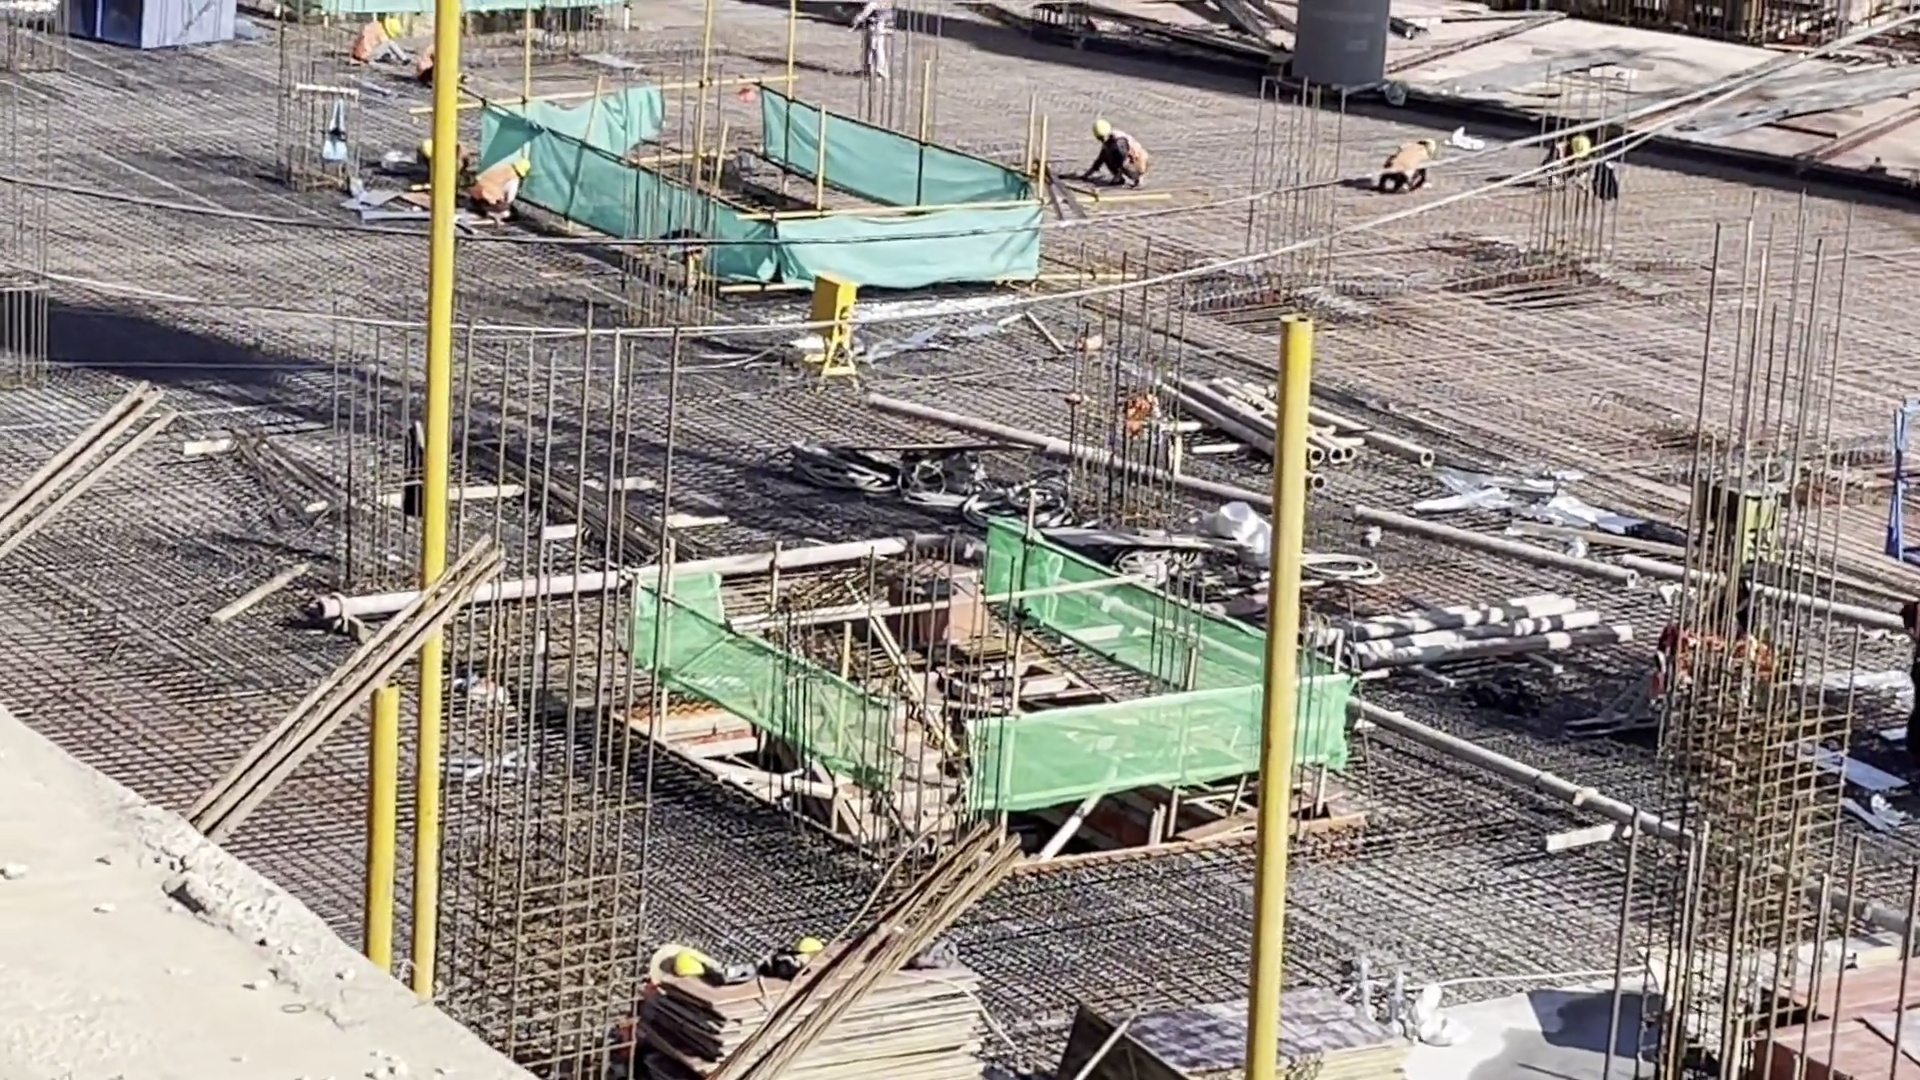board: (652, 964, 981, 1080), (1139, 988, 1390, 1080)
ebox: (806, 279, 856, 376)
helmet: (1570, 135, 1589, 157), (1089, 121, 1111, 137), (512, 157, 529, 176), (384, 18, 400, 37)
hopper: (61, 1, 232, 53)
person: (1085, 120, 1148, 192), (467, 157, 529, 226), (1382, 134, 1435, 192), (356, 19, 411, 68), (862, 3, 892, 76)
vest: (474, 169, 520, 203), (1113, 123, 1146, 170), (1389, 145, 1424, 181), (354, 24, 379, 57)
